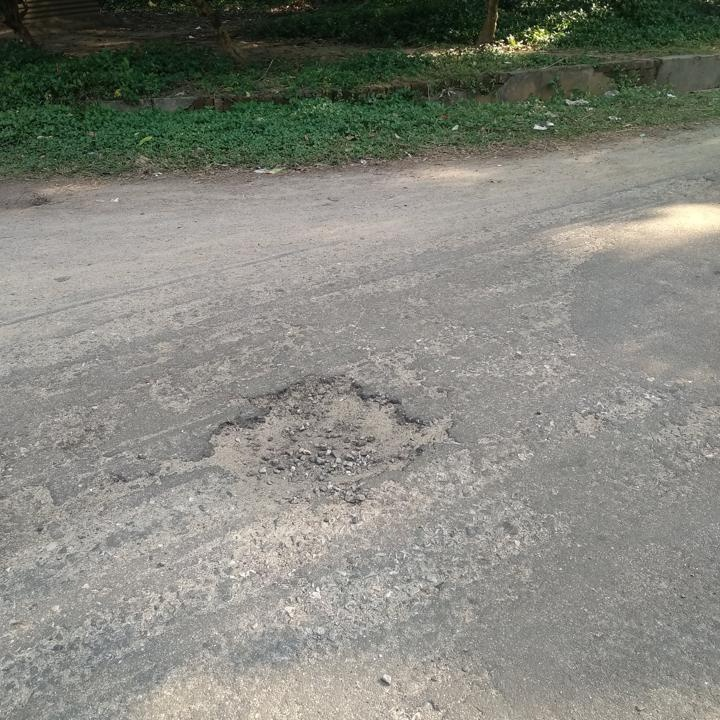pothole: (186, 368, 461, 502)
